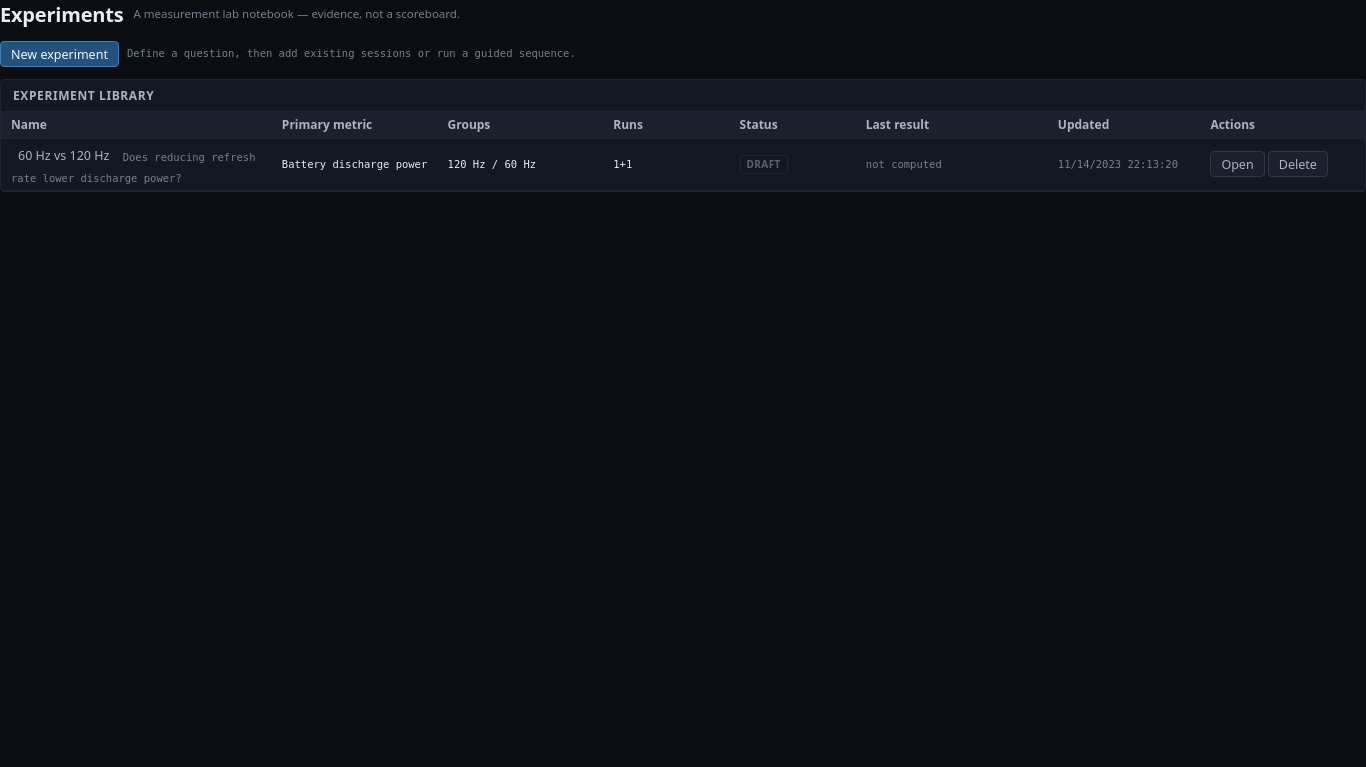
Test: ExperimentsPage › creates a new experiment from the compact form
Expected: the button "60 Hz vs 120 Hz" is shown, [11,143,116,169]
Click the button "New experiment" at point(59, 54), box [0,41,119,67]
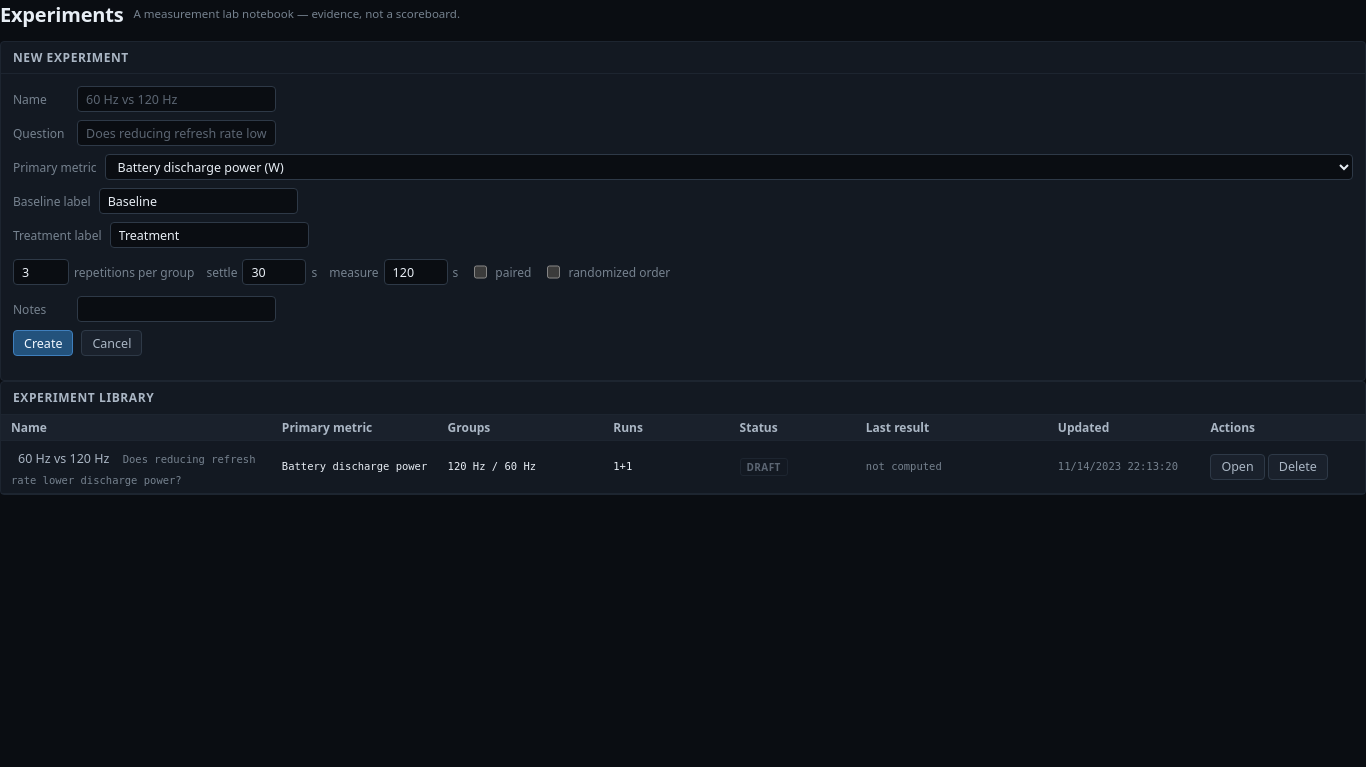
Type "My test" into the field with placeholder "60 Hz vs 120 Hz" at point(176, 99), box [77,86,276,112]
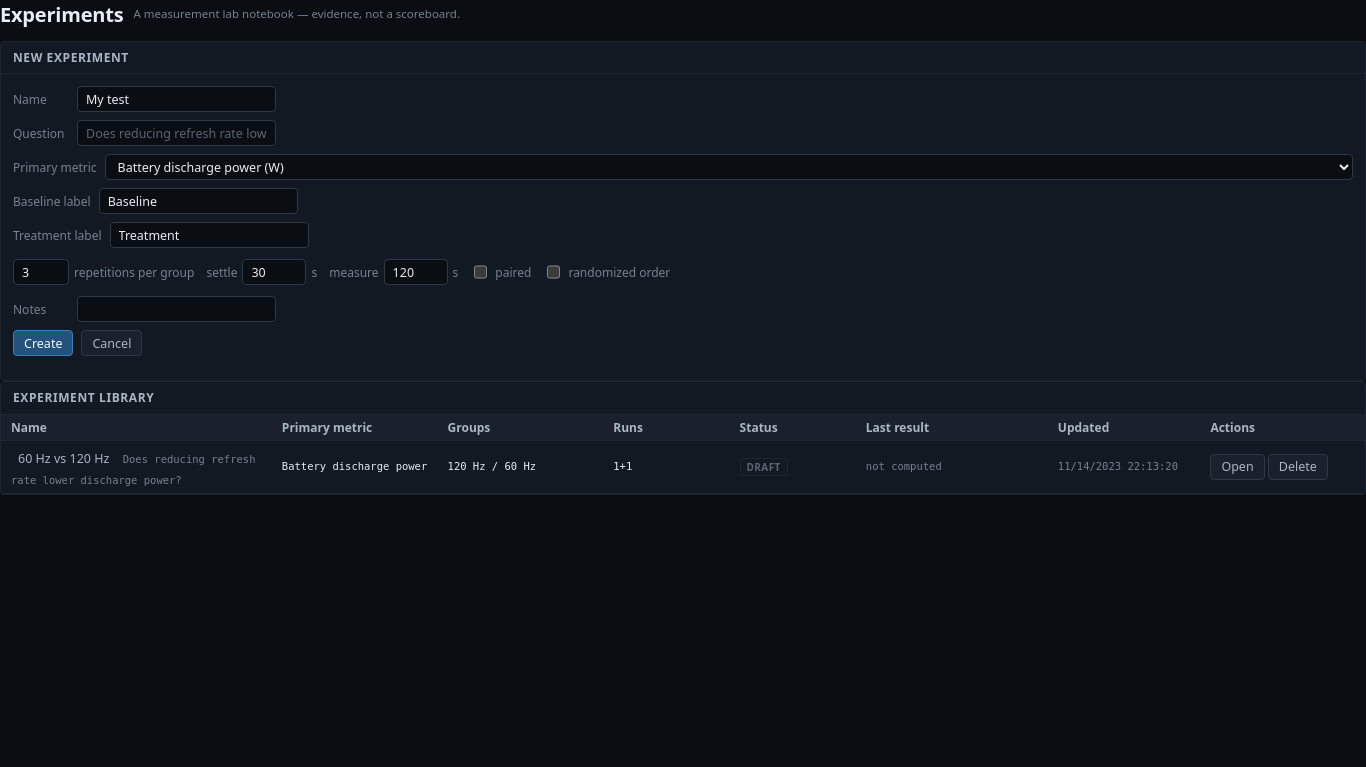
Click the button "Create" at point(43, 343), box [13,330,74,356]
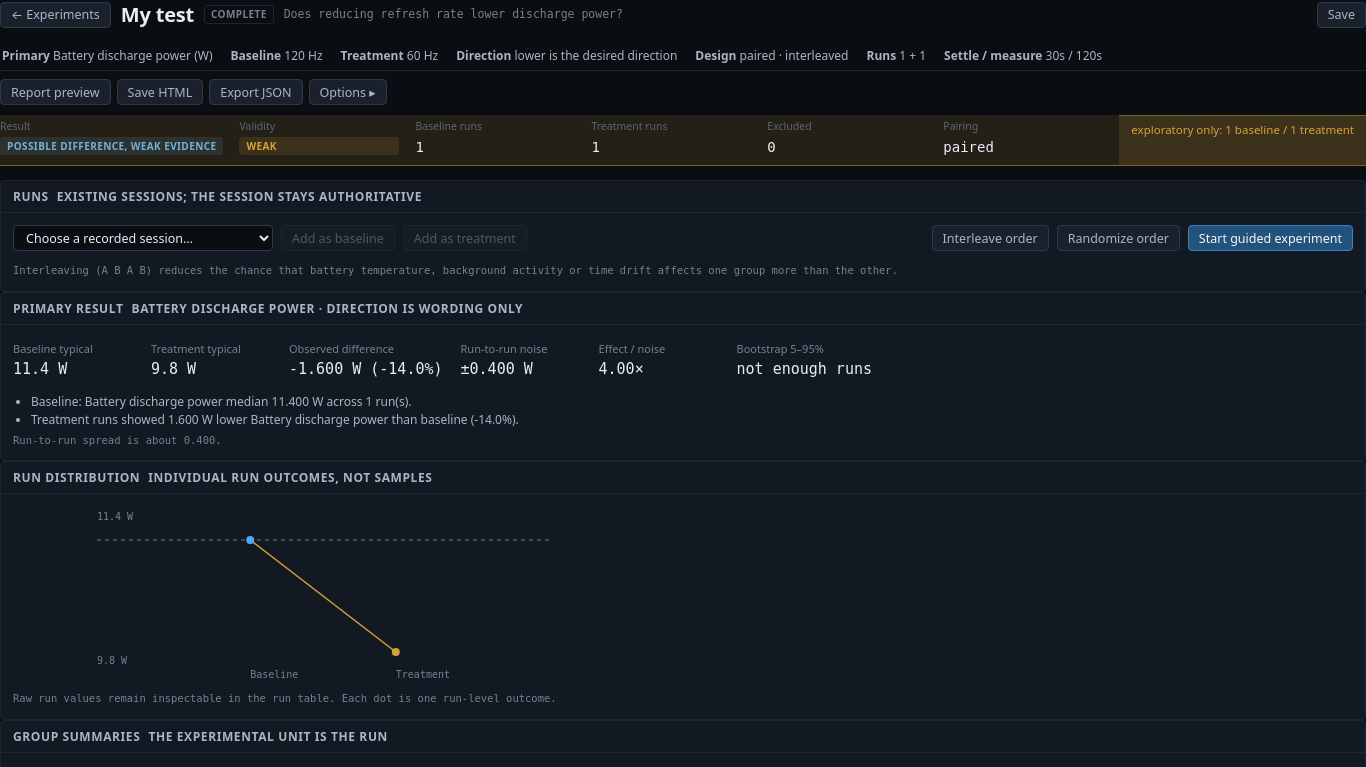
Expected: the text "My test" is shown, [121,0,194,29]
